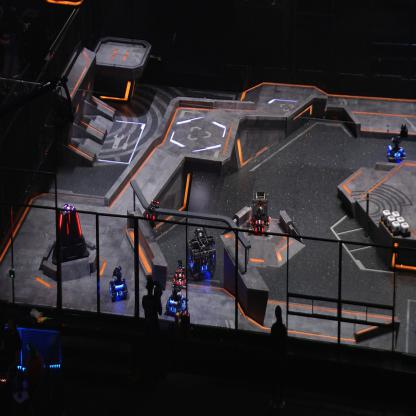car: (188, 226, 215, 278), (249, 190, 270, 235), (164, 283, 188, 315), (108, 266, 129, 302), (386, 134, 407, 163), (174, 260, 188, 288)
